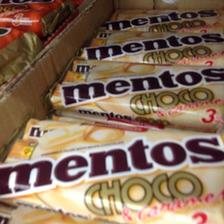Suessigkeit: (0, 117, 224, 221), (46, 58, 222, 126), (78, 22, 221, 61)
